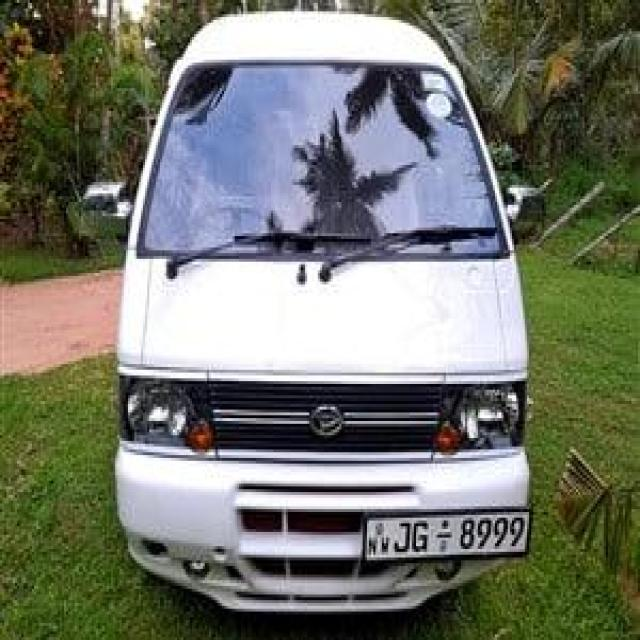license-plate: (363, 512, 529, 552)
